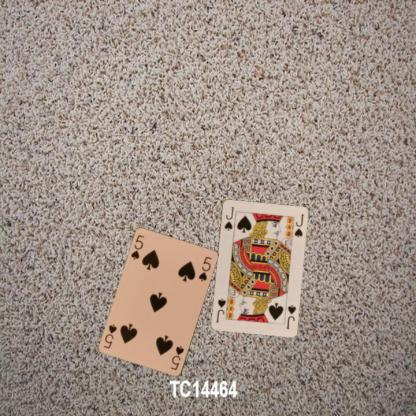5s: (168, 343, 186, 372), (128, 232, 146, 261)
Js: (221, 204, 235, 232), (284, 302, 297, 330)
